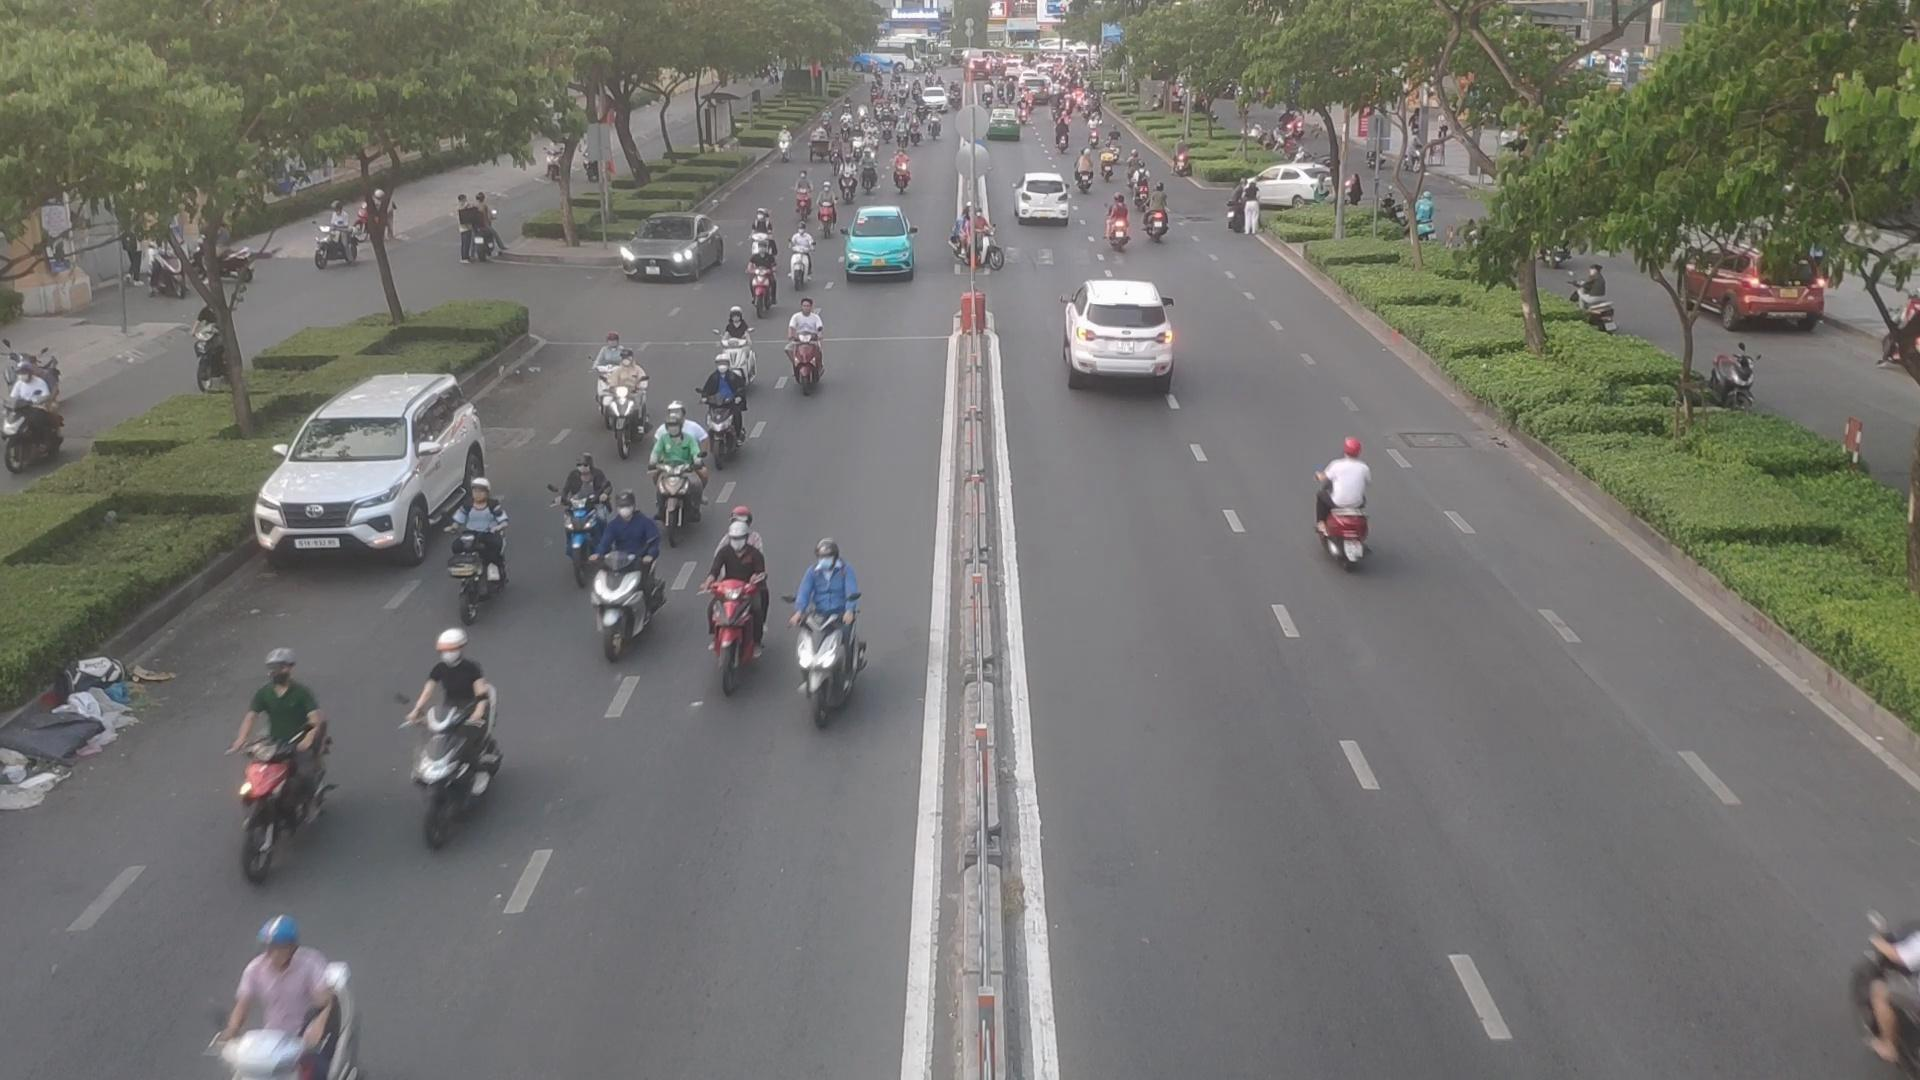car: (253, 375, 493, 564), (1062, 281, 1176, 382), (618, 216, 727, 285), (840, 204, 913, 281), (1017, 173, 1073, 227)
motorbike: (222, 647, 359, 880), (222, 909, 392, 1080), (404, 633, 501, 856), (1286, 431, 1385, 568), (798, 546, 861, 738), (715, 498, 767, 709), (613, 513, 671, 676), (455, 493, 513, 604), (644, 411, 694, 531), (582, 328, 640, 431), (553, 458, 599, 572), (621, 334, 661, 451), (785, 303, 831, 401), (934, 198, 996, 264), (713, 356, 753, 450), (716, 301, 752, 398), (745, 245, 785, 301), (790, 227, 825, 282), (1108, 193, 1135, 249), (808, 185, 833, 240), (894, 150, 922, 198), (753, 211, 777, 265), (835, 160, 858, 203), (786, 175, 810, 214), (1149, 182, 1162, 243), (866, 153, 878, 198)
